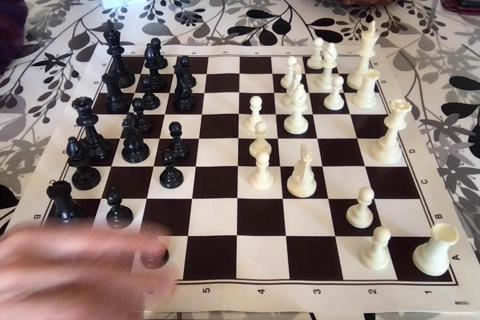xcorner: (83, 230, 95, 242), (132, 230, 144, 242), (182, 230, 194, 242), (231, 231, 243, 243), (280, 231, 292, 243), (330, 231, 342, 243), (380, 232, 392, 244), (95, 193, 107, 205), (141, 193, 153, 205), (186, 193, 198, 205), (232, 193, 244, 205), (323, 194, 335, 206), (105, 161, 117, 173), (148, 161, 160, 173), (190, 161, 202, 173), (232, 161, 244, 173), (275, 161, 287, 173), (318, 161, 330, 173), (360, 162, 372, 174), (114, 133, 126, 145), (154, 133, 166, 145), (193, 133, 205, 145), (233, 133, 245, 145), (273, 133, 285, 145), (313, 133, 325, 145), (353, 134, 365, 146), (159, 109, 171, 121), (196, 109, 208, 121), (233, 109, 245, 121), (271, 109, 283, 121), (308, 109, 320, 121), (346, 109, 358, 121), (129, 87, 141, 99), (164, 87, 176, 99), (199, 87, 211, 99), (234, 87, 246, 99), (269, 87, 281, 99), (304, 87, 316, 99), (340, 87, 352, 99), (135, 68, 147, 80), (168, 68, 180, 80), (201, 68, 213, 80), (234, 68, 246, 80), (301, 68, 313, 80), (334, 68, 346, 80), (370, 194, 381, 206), (122, 109, 134, 120), (268, 68, 279, 80), (278, 194, 289, 205)
